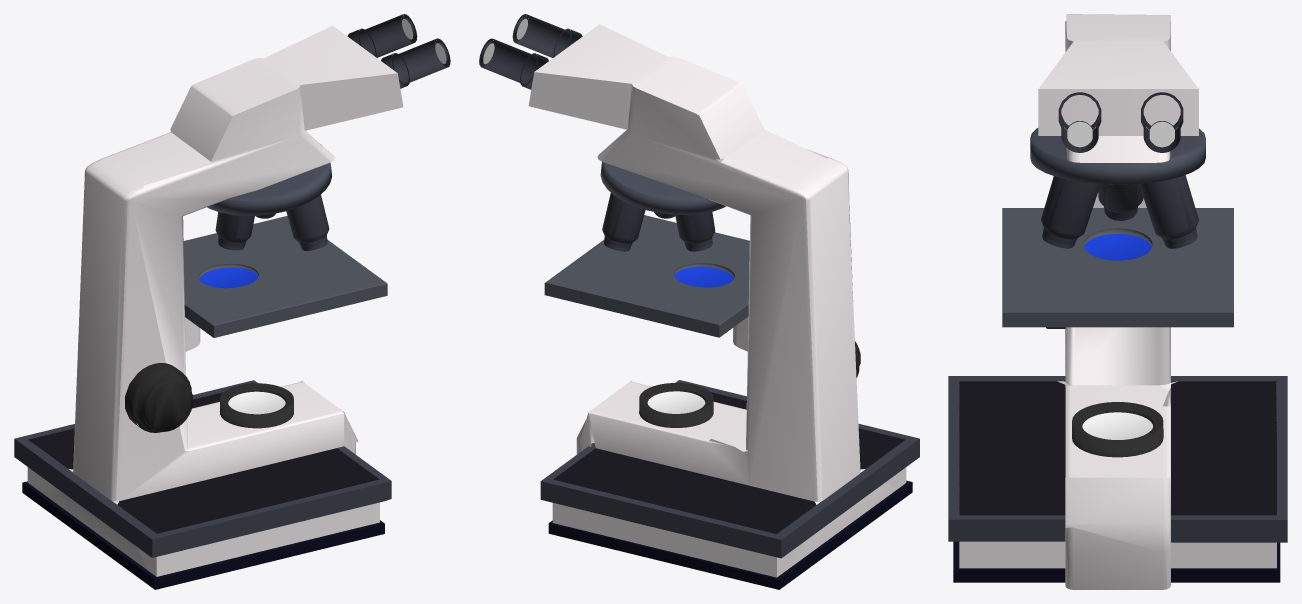
The model's file is Microscope.fbx.
3 renders of one model, left to right at view 1: azimuth 30°, elevation 25°; view 2: azimuth 150°, elevation 25°; view 3: azimuth 270°, elevation 25°, orthographic. The views are drawn at different scales.
Parts seen in each view (by area): view 1: Cube; view 2: Cube; view 3: Cube.
Boxes of the visible parts, x1=… form: Cube: x1=14, y1=14, x2=450, y2=589; Cube: x1=479, y1=14, x2=919, y2=589; Cube: x1=948, y1=14, x2=1287, y2=589.
Size of the model in its own units: 71.12 by 84.61 by 49.04.
